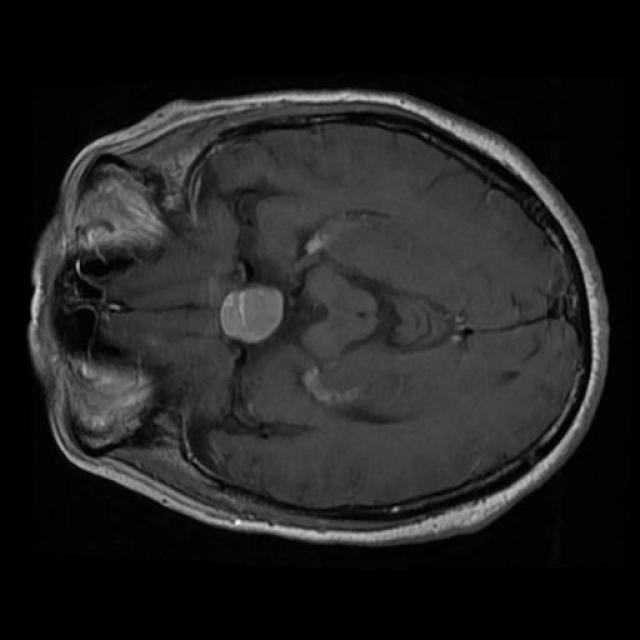Pituitary: (220, 285, 284, 344)
